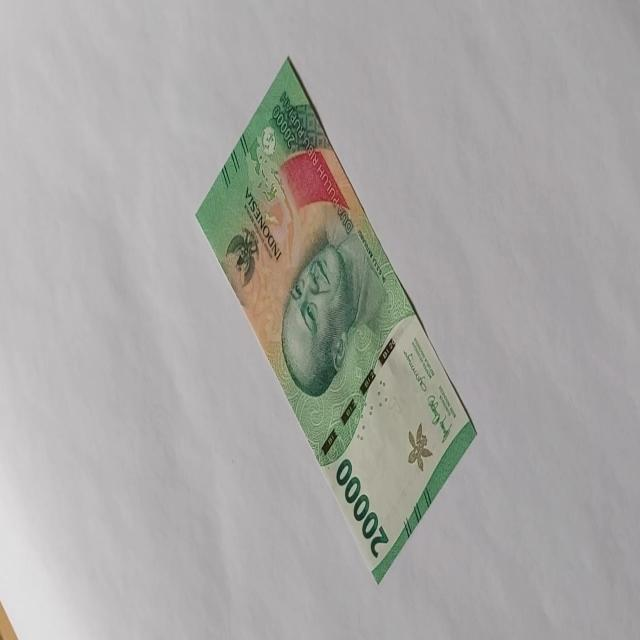dua puluh ribu rupiah: (195, 54, 478, 585), (335, 456, 389, 560)
